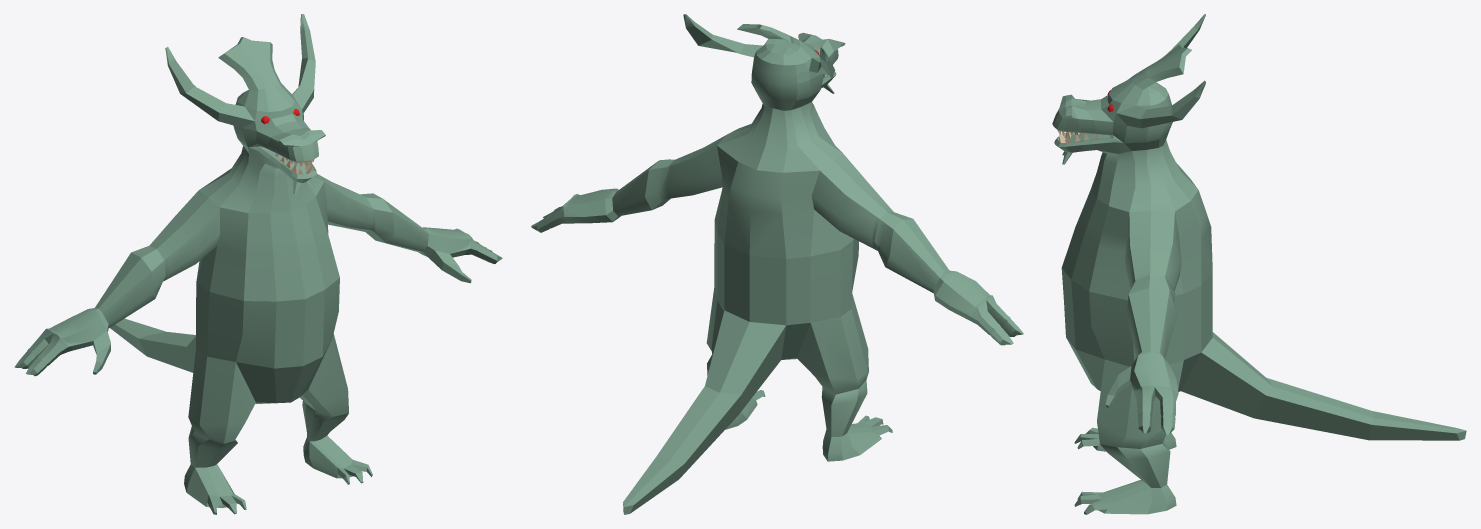
The model's file is TrainJam_Kaiju1.fbx.
3 views of the same model, side by side, from view 1: azimuth 30°, elevation 25°; view 2: azimuth 150°, elevation 25°; view 3: azimuth 270°, elevation 25° (orthographic).
Visible parts, largest first — view 1: Monster; view 2: Monster; view 3: Monster.
Part boxes in pixels (left/top/right/bottom): Monster: left=14, top=14, right=502, bottom=514; Monster: left=531, top=14, right=1023, bottom=514; Monster: left=1052, top=14, right=1466, bottom=514.
Size of the model in its own units: 15.17 by 12.82 by 11.23.
1 material, 1 textured.
